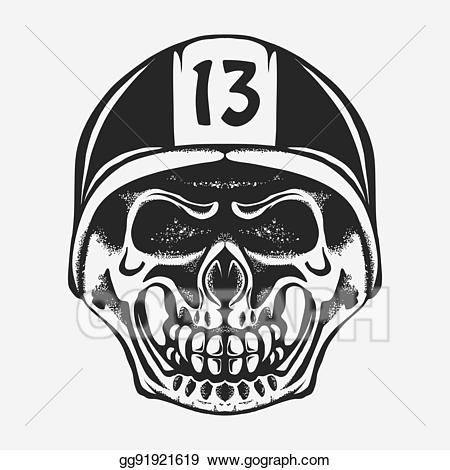with_helmet: (67, 28, 392, 300)
